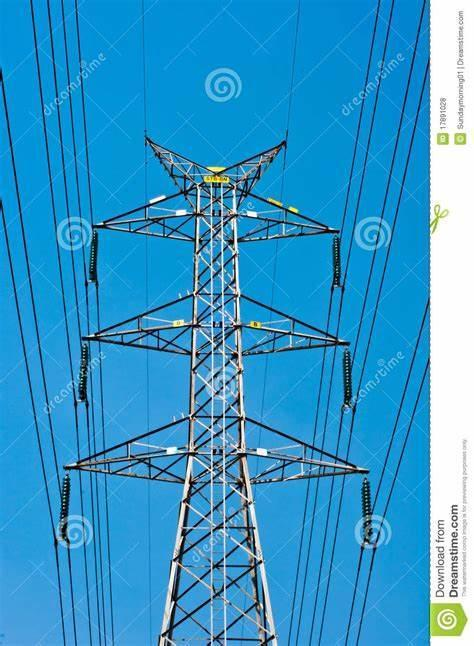power_tower: (84, 129, 366, 643)
